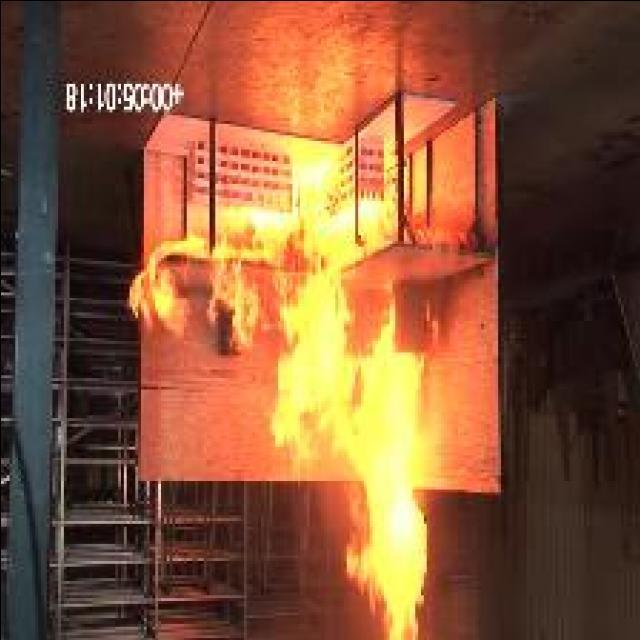Fire: (128, 160, 428, 640)
